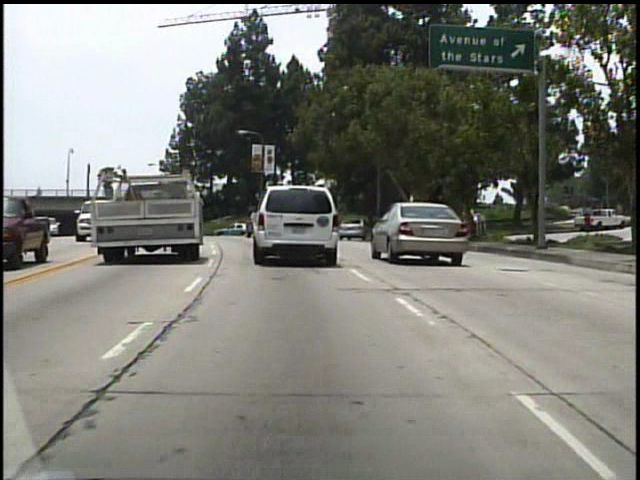person: (33, 183, 43, 203)
